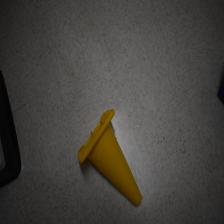cone: (77, 108, 143, 208)
